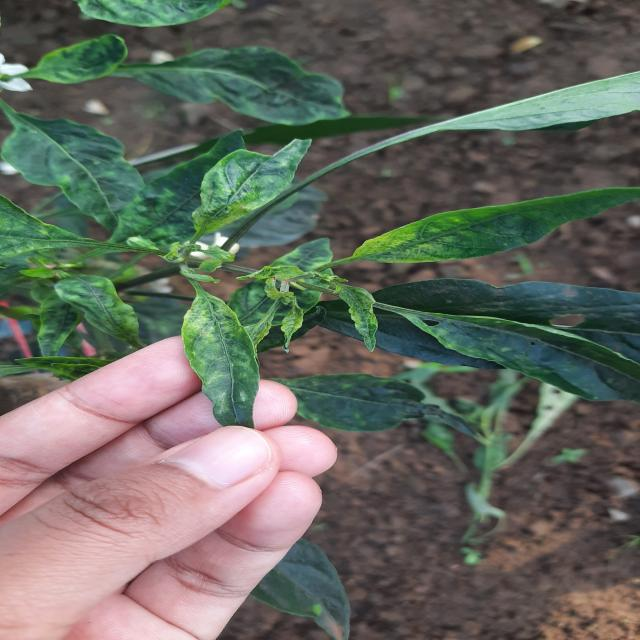thrips: (350, 176, 640, 270), (188, 128, 313, 248), (176, 288, 273, 432)
